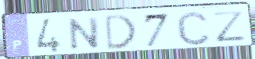4: (35, 16, 64, 54)
7: (140, 13, 172, 48)
C: (175, 9, 213, 47)
D: (104, 13, 138, 52)
N: (68, 15, 101, 52)
Z: (211, 9, 248, 43)
